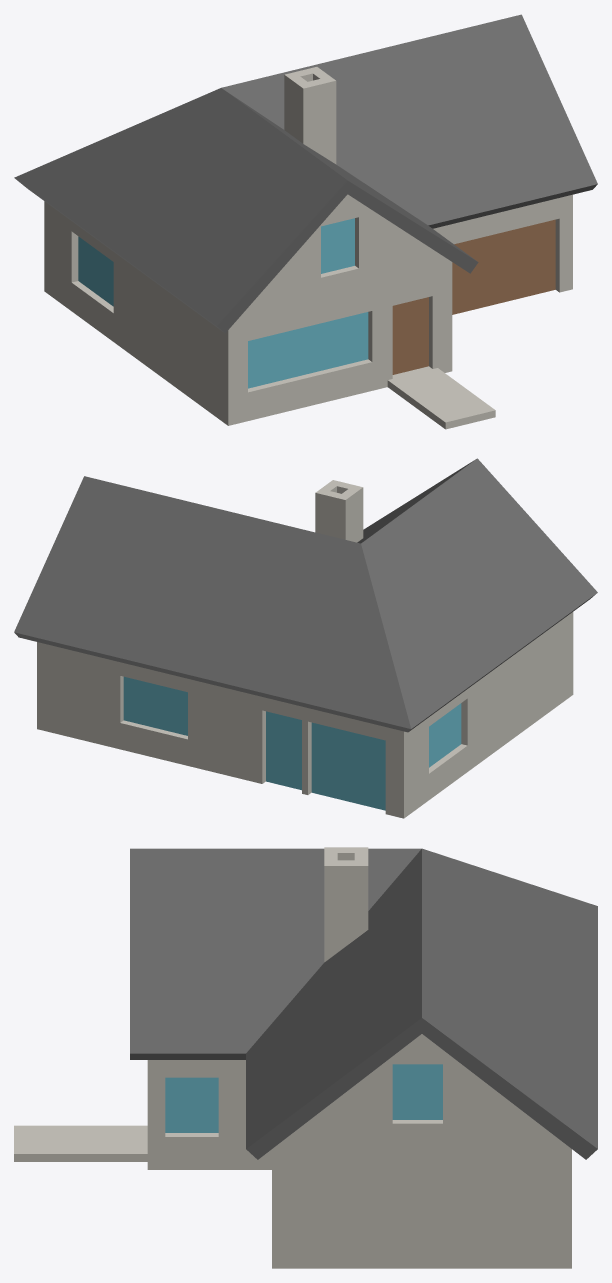
Rendered from house-country.glb.
3 renders of one model, top to bottom at view 1: azimuth 30°, elevation 25°; view 2: azimuth 150°, elevation 25°; view 3: azimuth 270°, elevation 25°, orthographic. The views are drawn at different scales.
Visible parts, largest first — view 1: house-country_Cube.026; view 2: house-country_Cube.026; view 3: house-country_Cube.026.
Boxes of the visible parts, x1=… form: house-country_Cube.026: x1=14, y1=14, x2=597, y2=429; house-country_Cube.026: x1=14, y1=458, x2=597, y2=818; house-country_Cube.026: x1=14, y1=847, x2=597, y2=1268.
Bounding box in the file's own units: 12.9 × 6.98 × 13.11.
Materials: 1 (1 with a texture image).
